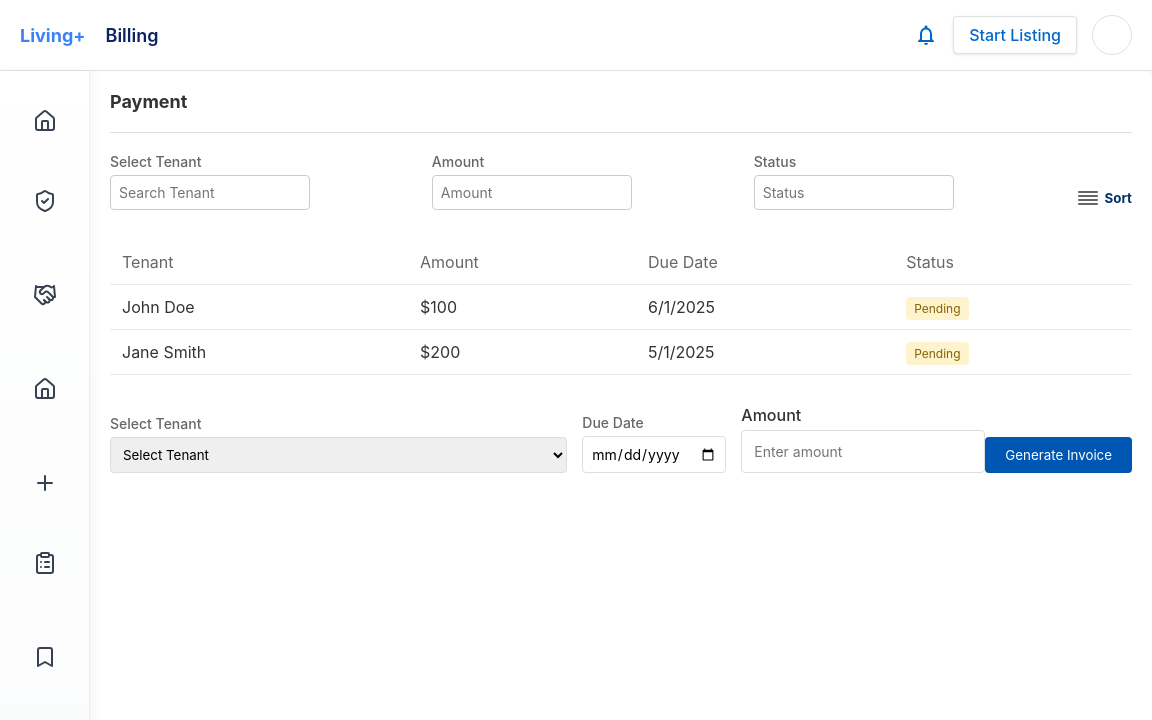
it: filters bills by tenant name
// Type a tenant name to filter
Type "John" into the field with placeholder "Search Tenant" at (210, 192), box [110, 175, 310, 210]
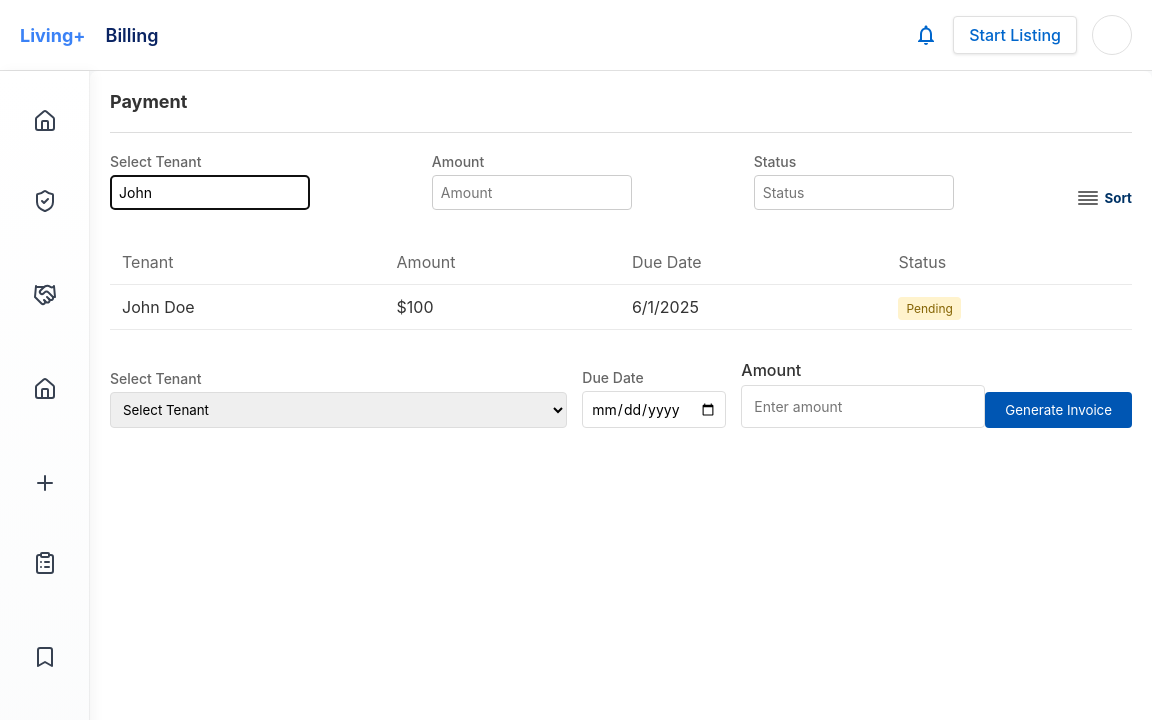
Check: the row "John Doe $100 6/1/2025 Pending" is shown, box [110, 284, 1132, 330]
Check: the number of rows is 2, box [110, 240, 1132, 284]; [110, 284, 1132, 330]
Check: the cell no longer shows "Jane Smith"
